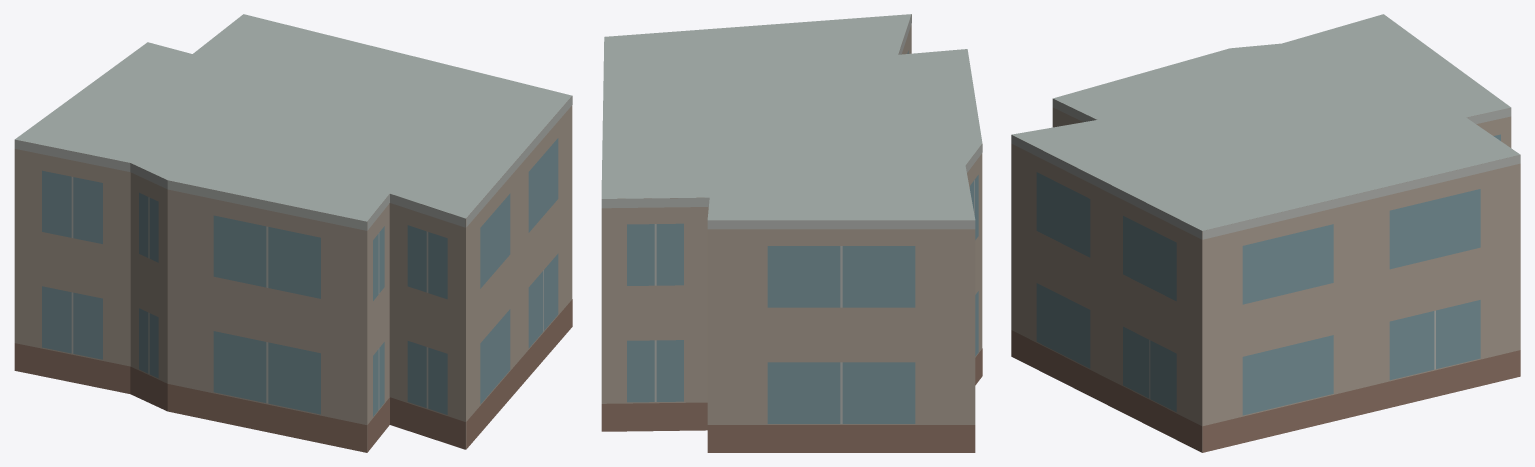
File: survey-upis-32496595.glb
3 renders of one model, left to right at view 1: azimuth 30°, elevation 25°; view 2: azimuth 150°, elevation 25°; view 3: azimuth 270°, elevation 25°, orthographic. The views are drawn at different scales.
Parts seen in each view (by area): view 1: survey-upis-32496595.tmp; view 2: survey-upis-32496595.tmp; view 3: survey-upis-32496595.tmp.
Part boxes in pixels (x1,y1,x2,y2): survey-upis-32496595.tmp: (14, 14, 572, 452); survey-upis-32496595.tmp: (601, 14, 982, 452); survey-upis-32496595.tmp: (1011, 14, 1520, 452).
Bounding box in the file's own units: 12.8 × 6.1 × 12.7.
